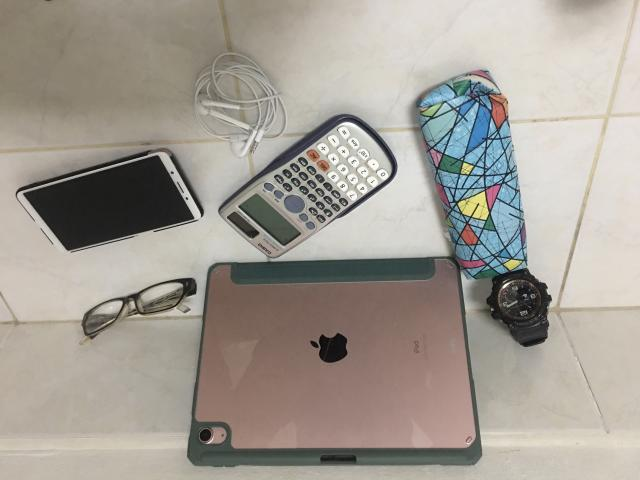Glasses: (81, 278, 196, 344)
Mobile phone: (16, 149, 202, 251)
Watch: (486, 269, 551, 346)
wire: (194, 51, 288, 159)
